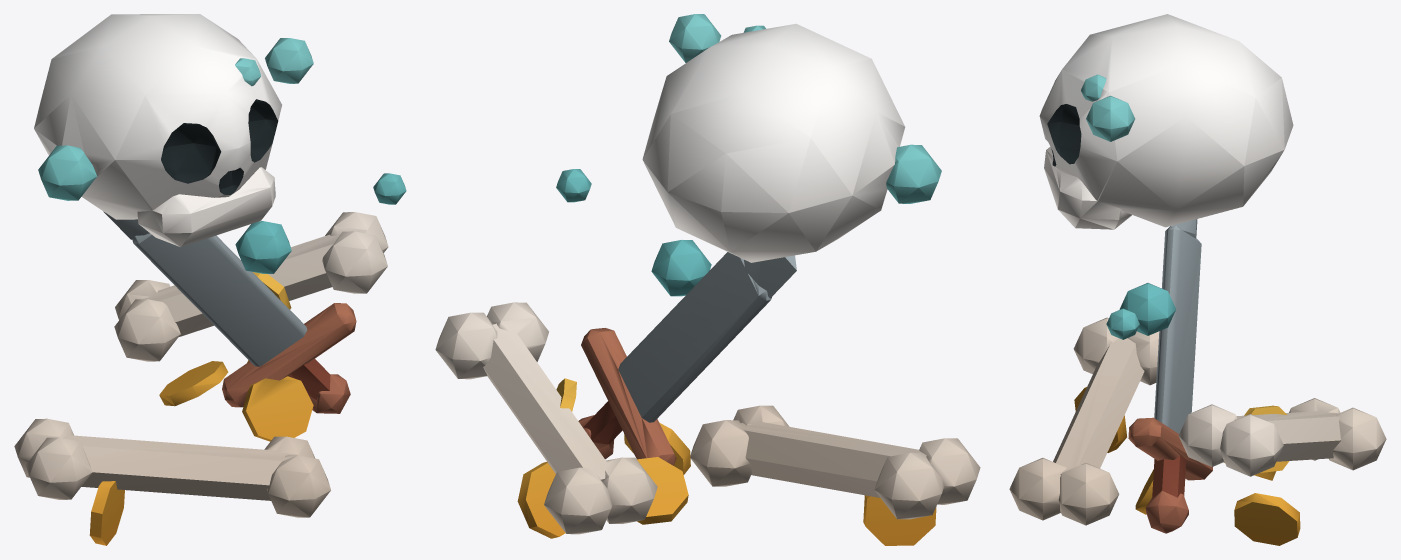
Rendered from gelatinous_cube_contents.glb.
3 views of the same model, side by side, from view 1: azimuth 30°, elevation 25°; view 2: azimuth 150°, elevation 25°; view 3: azimuth 270°, elevation 25° (orthographic). The views are drawn at different scales.
Visible parts, largest first — view 1: gelatinous_cube_contents; view 2: gelatinous_cube_contents; view 3: gelatinous_cube_contents.
Boxes of the visible parts, box(x1,y1,x2,y2) form: gelatinous_cube_contents: box(14, 14, 406, 545); gelatinous_cube_contents: box(435, 14, 980, 545); gelatinous_cube_contents: box(1009, 14, 1386, 545).
Bounding box in the file's own units: 1.65 × 1.75 × 1.29.
Materials: 1 (1 with a texture image).
